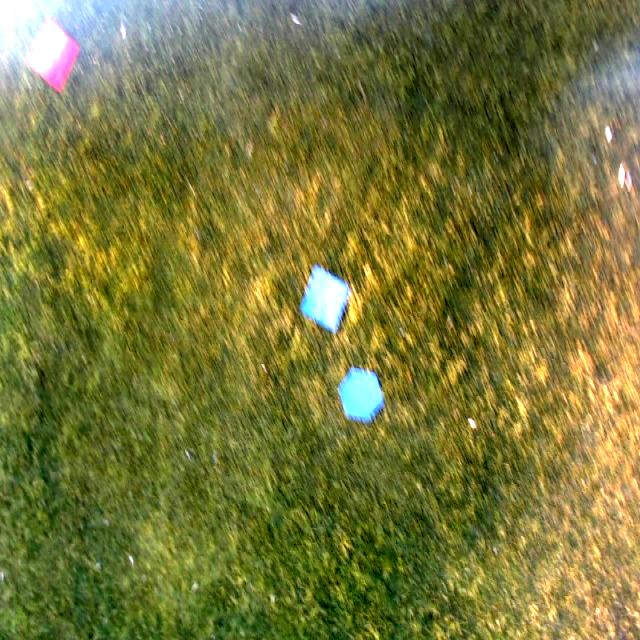blue_hexagon: (339, 366, 385, 422)
blue_square: (301, 266, 350, 332)
red_square: (28, 20, 78, 91)
